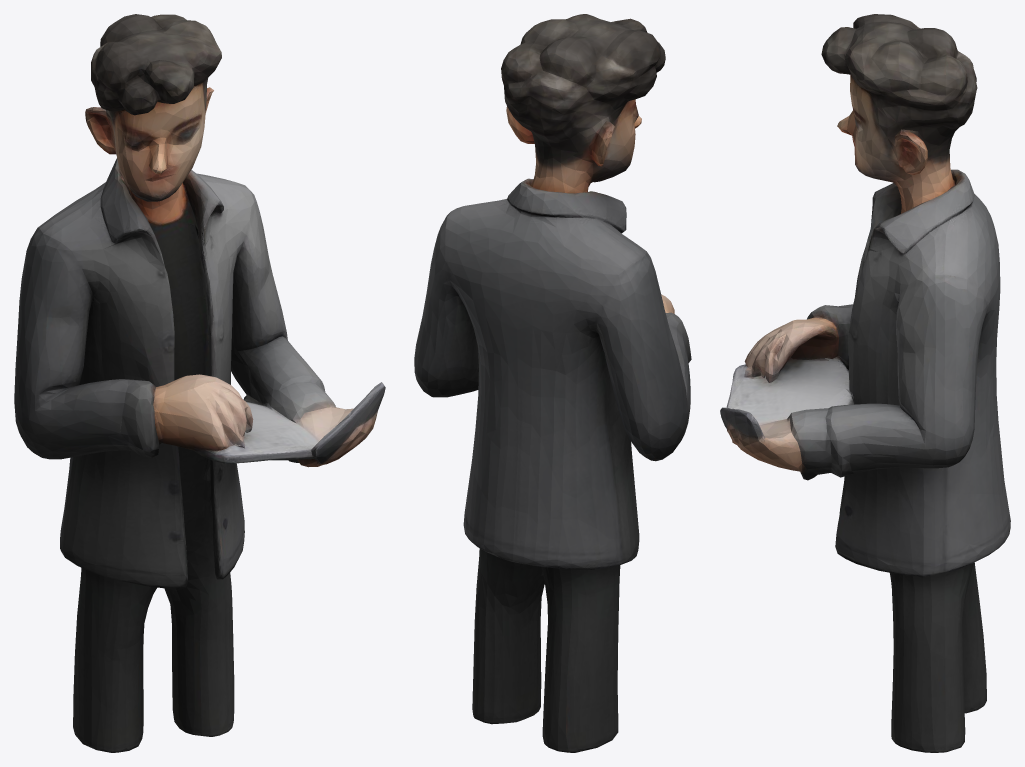
3 views of the same model, side by side, from view 1: azimuth 30°, elevation 25°; view 2: azimuth 150°, elevation 25°; view 3: azimuth 270°, elevation 25° (orthographic). The views are drawn at different scales.
Visible parts, largest first — view 1: geometry_0; view 2: geometry_0; view 3: geometry_0.
Part boxes in pixels (left/top/right/bottom): geometry_0: left=14, top=14, right=385, bottom=752; geometry_0: left=414, top=14, right=691, bottom=752; geometry_0: left=720, top=14, right=1010, bottom=752.
Size of the model in its own units: 0.3949 by 0.9985 by 0.3877.
Materials: 1 (1 with a texture image).
